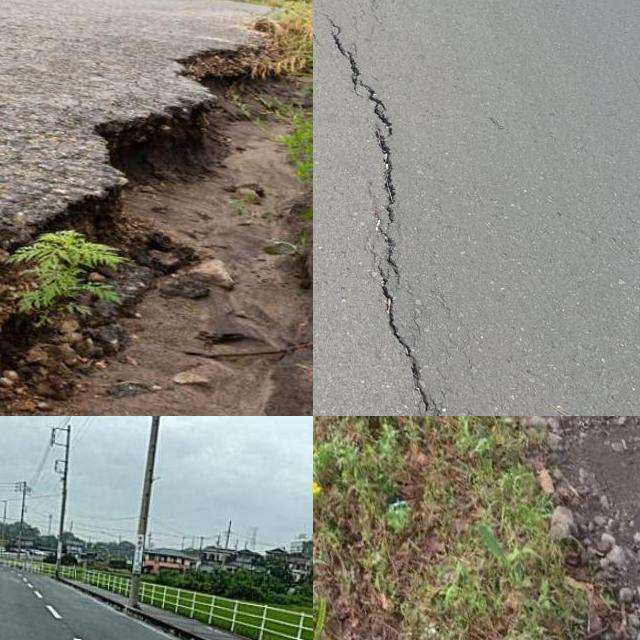Memanjang: (313, 0, 449, 416)
Pinggir: (0, 25, 281, 404)
